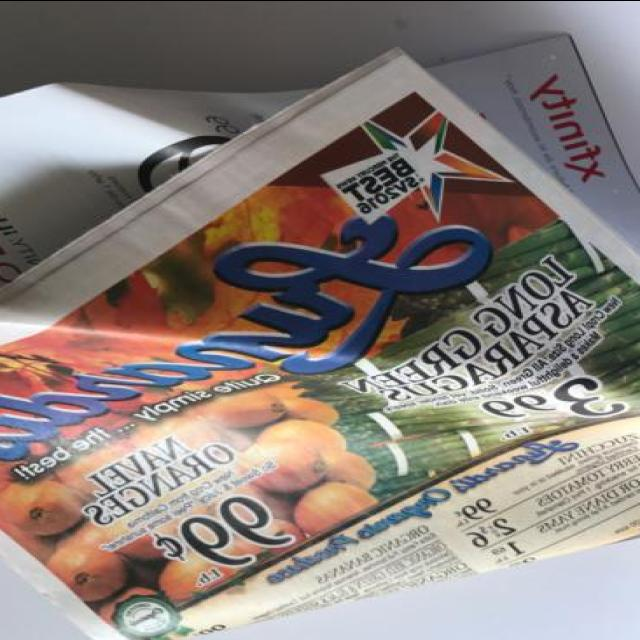kertas: (0, 34, 640, 640)
